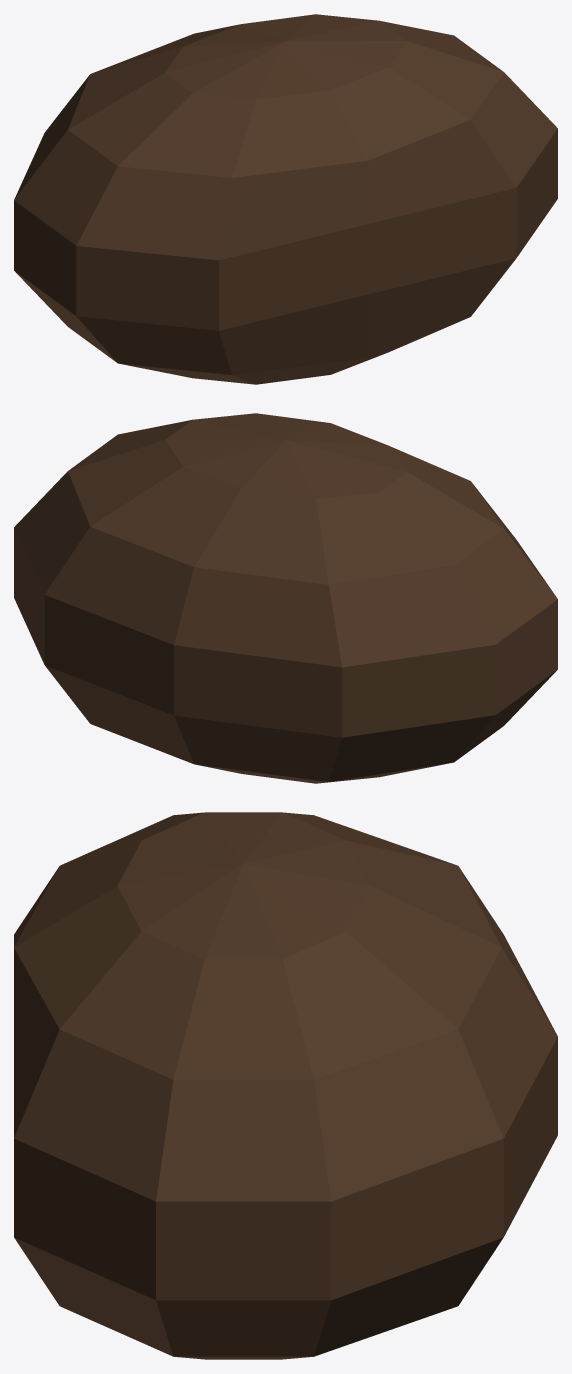
Rendered from PlushyNose.fbx.
3 views of the same model, one above another, from view 1: azimuth 30°, elevation 25°; view 2: azimuth 150°, elevation 25°; view 3: azimuth 270°, elevation 25° (orthographic). The views are drawn at different scales.
Parts seen in each view (by area): view 1: PlushyNose; view 2: PlushyNose; view 3: PlushyNose.
Boxes of the visible parts, bbox=[...] form: PlushyNose: bbox=[14, 14, 557, 384]; PlushyNose: bbox=[14, 413, 557, 783]; PlushyNose: bbox=[14, 812, 557, 1359].
Bounding box in the file's own units: 1.02 × 0.64 × 0.7105.
